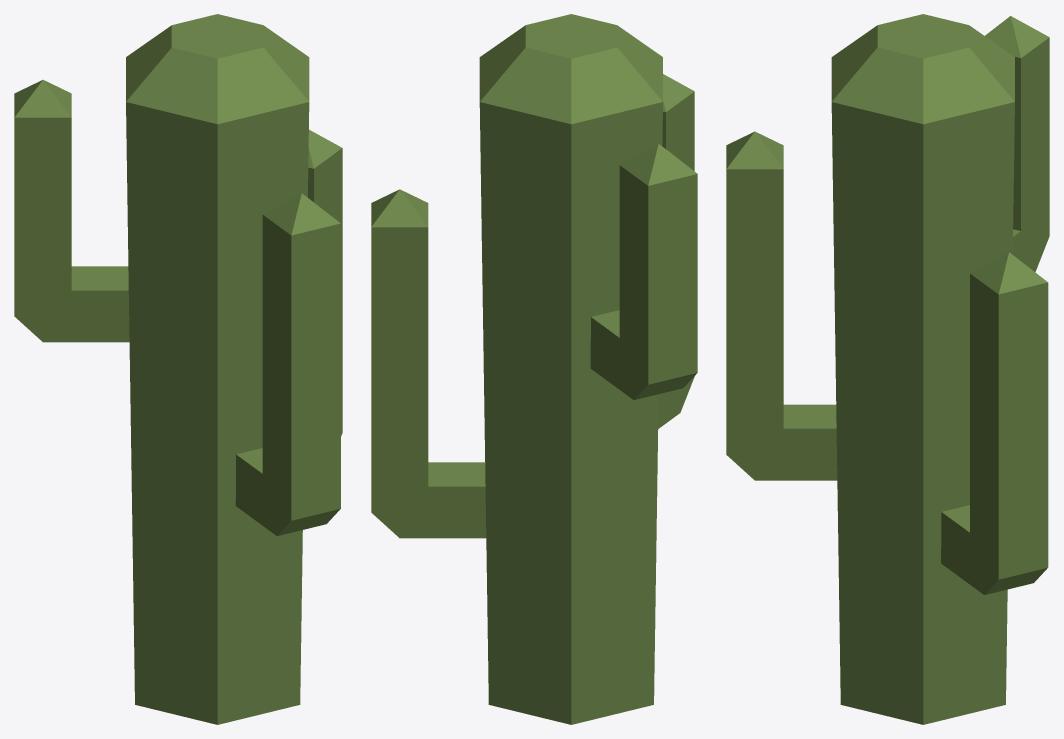
The model's file is cactus.glb.
The picture shows the model from 3 angles, left to right: view 1: azimuth 30°, elevation 25°; view 2: azimuth 150°, elevation 25°; view 3: azimuth 270°, elevation 25°; orthographic projection.
Visible parts, largest first — view 1: cactus_tall; view 2: cactus_tall; view 3: cactus_tall.
Boxes of the visible parts, bbox=[...] form: cactus_tall: bbox=[14, 14, 342, 724]; cactus_tall: bbox=[371, 14, 697, 724]; cactus_tall: bbox=[726, 14, 1049, 724].
Bounding box in the file's own units: 1.27 × 2.4 × 1.09.
